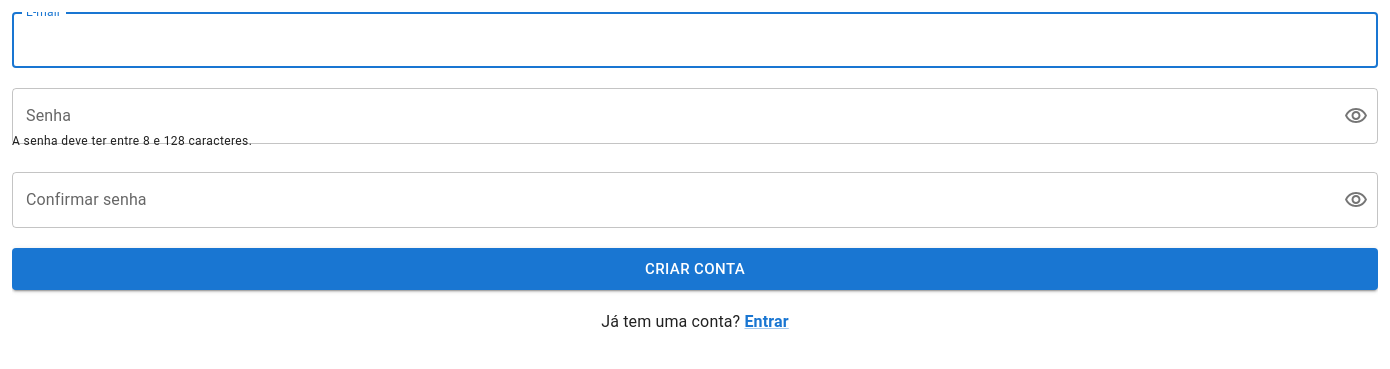
RegisterForm › rejeita confirmação diferente sem enviar o cadastro
The image size is (1390, 369).
In the field labelled "E-mail": (695, 40) [12,12,1378,68], type "user@example.com"
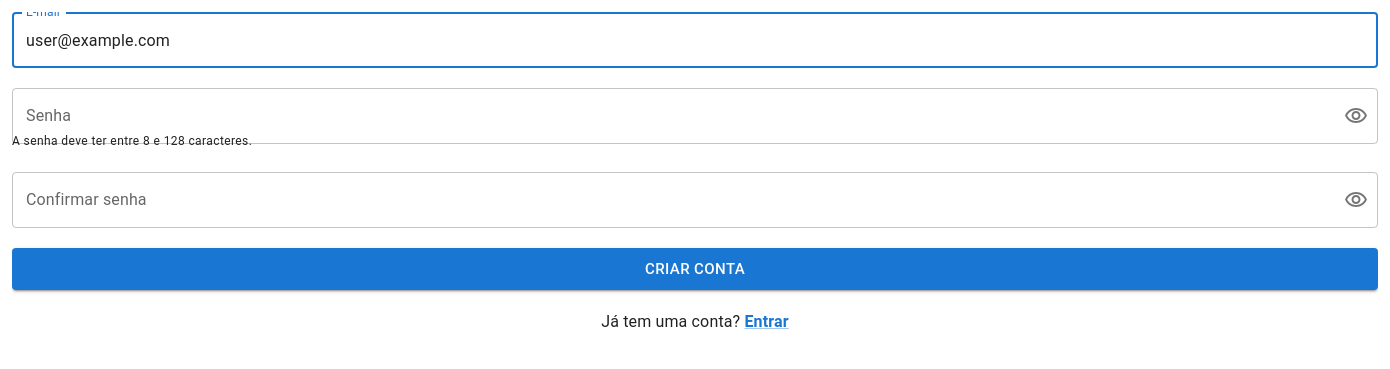
In the password field labelled "Senha": (670, 116) [12,88,1328,144], type "valid-password"
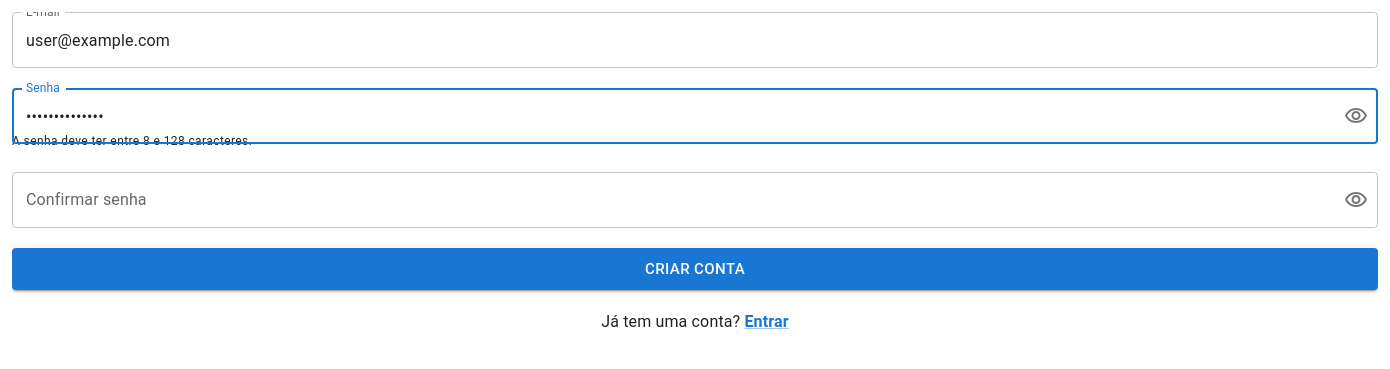
In the password field labelled "Confirmar senha": (670, 200) [12,172,1328,228], type "other-password"
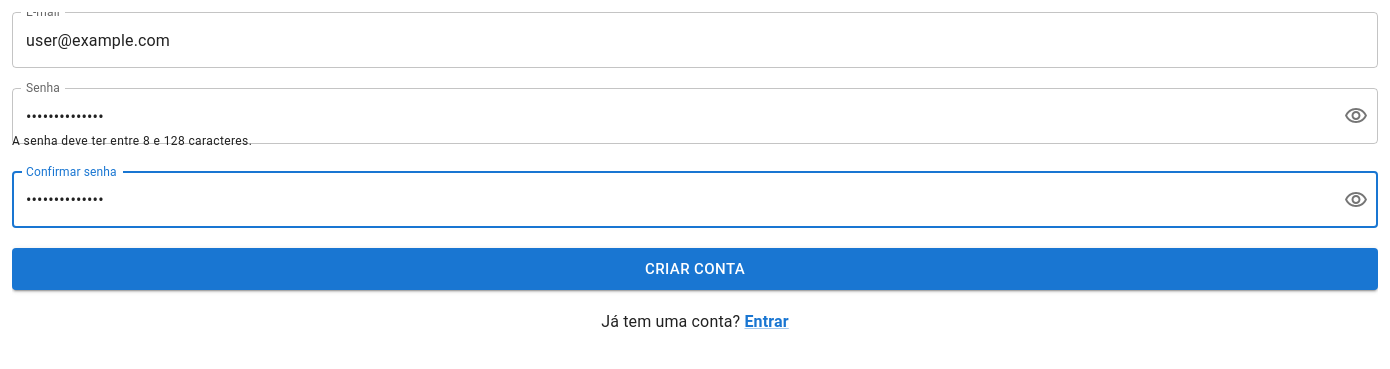
Click the button "Criar conta": click(695, 269) [12,248,1378,290]
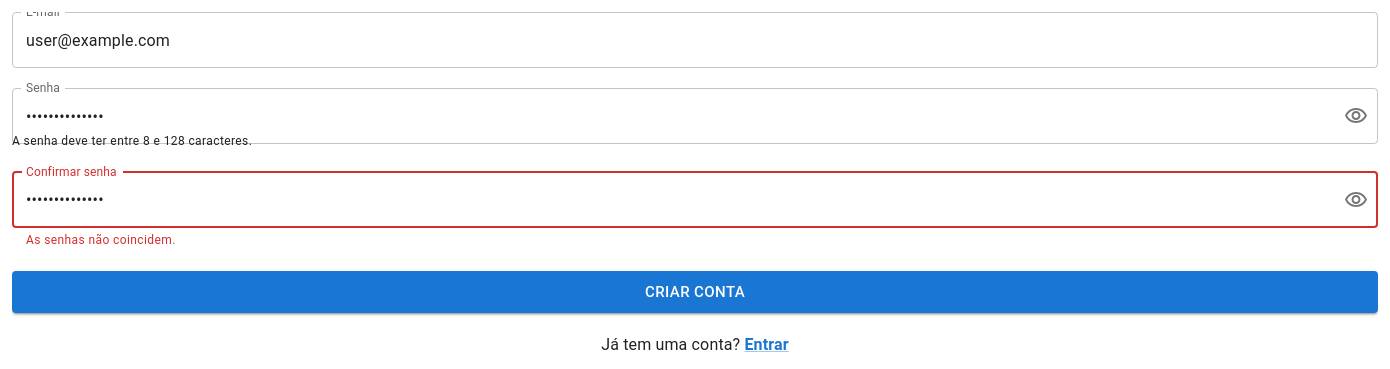
Check: the text "As senhas não coincidem." is shown, box [26,233,176,247]
